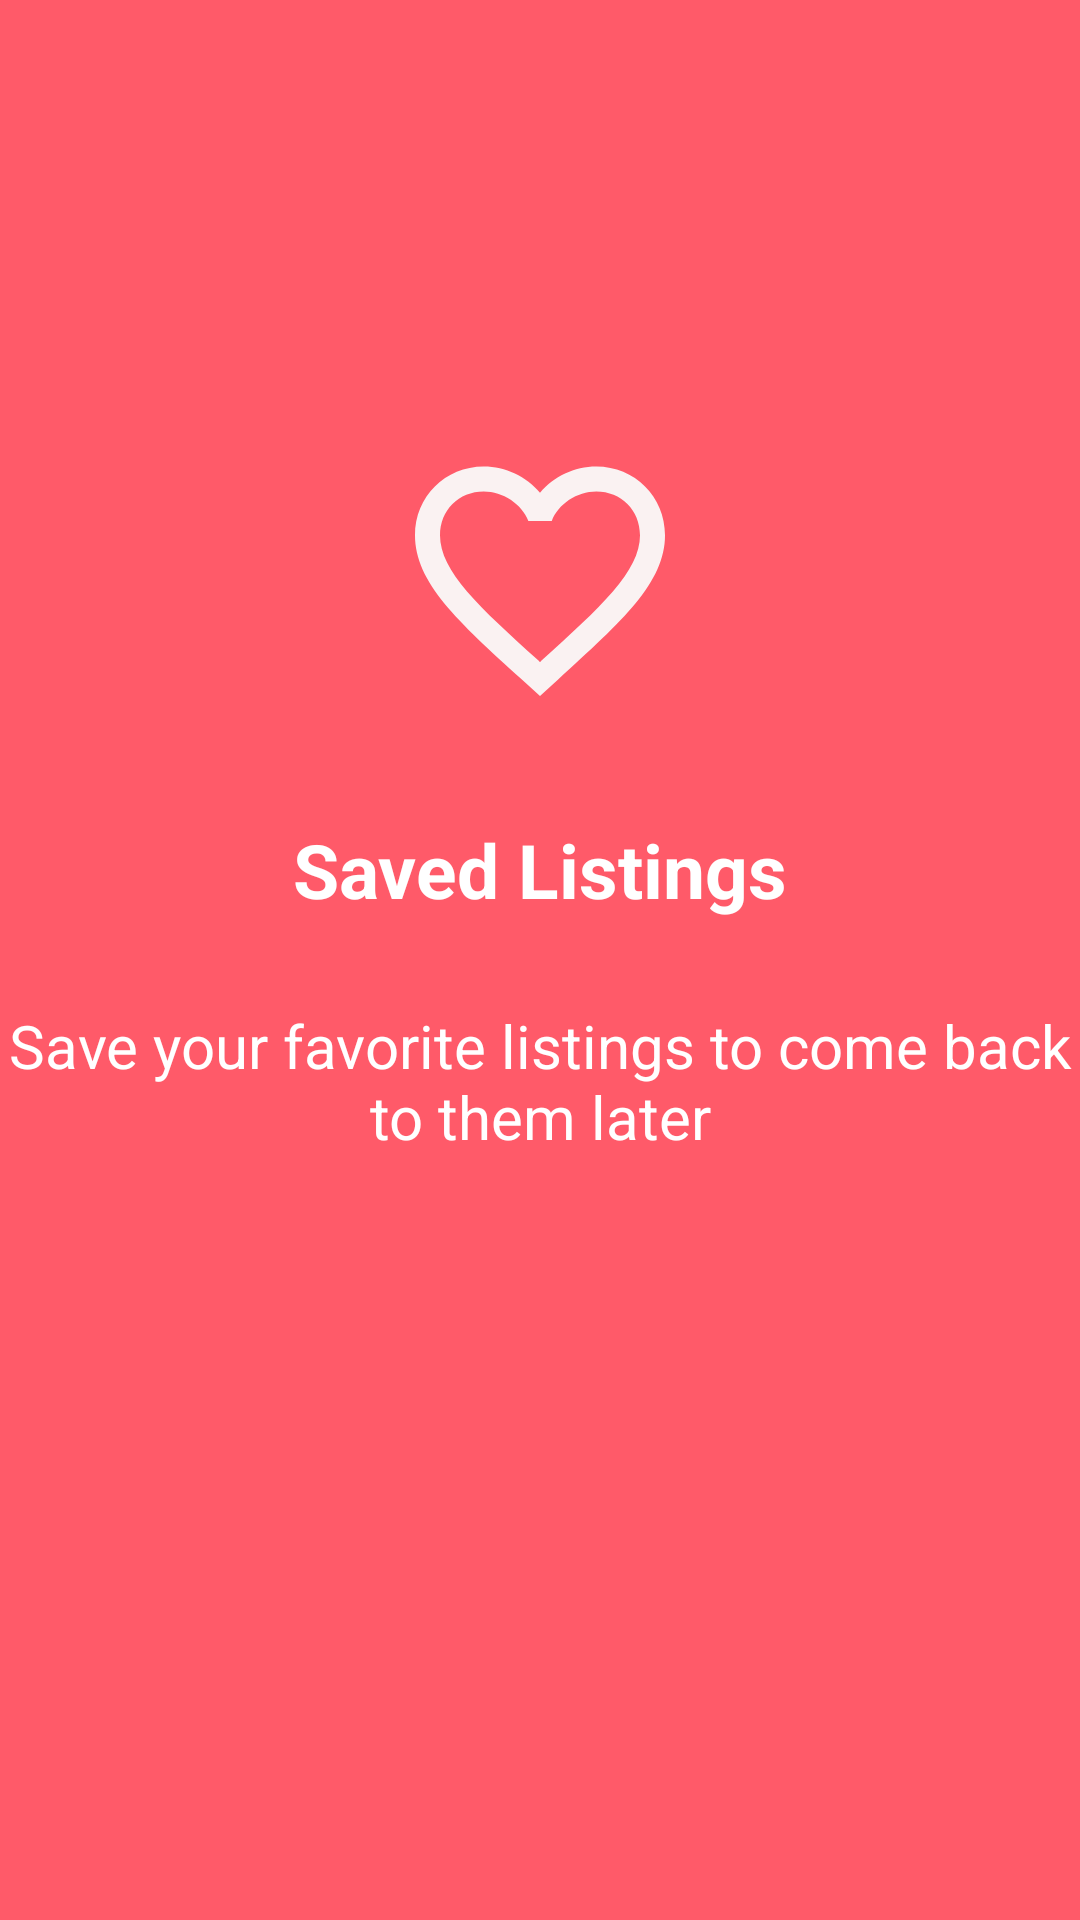

Locate icon controls on the screen. Image size 1080px×1920px, boxes as (x1, y1, x2, y2).
favorite border: (415, 466, 665, 696)
